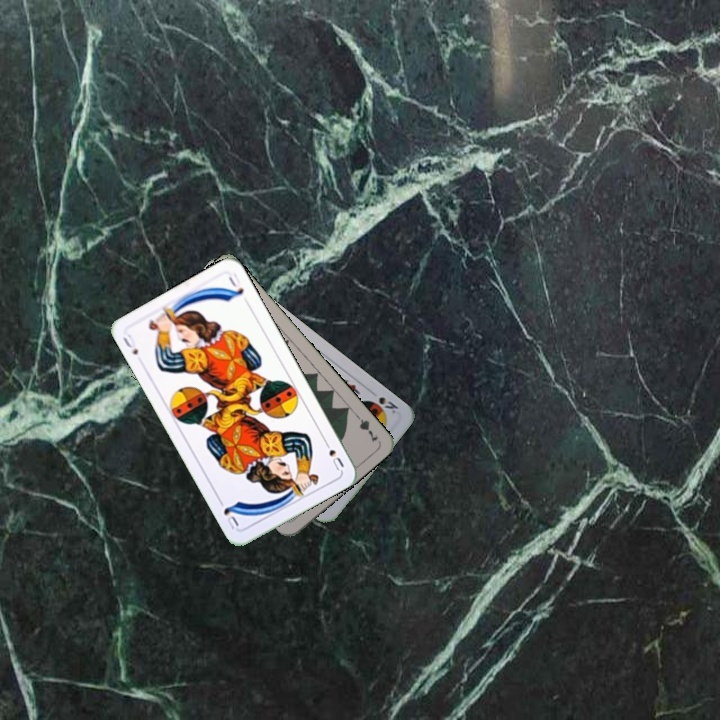G7: (350, 409, 381, 445)
SK: (375, 393, 401, 416)
SU: (319, 436, 347, 473), (118, 330, 141, 358)
